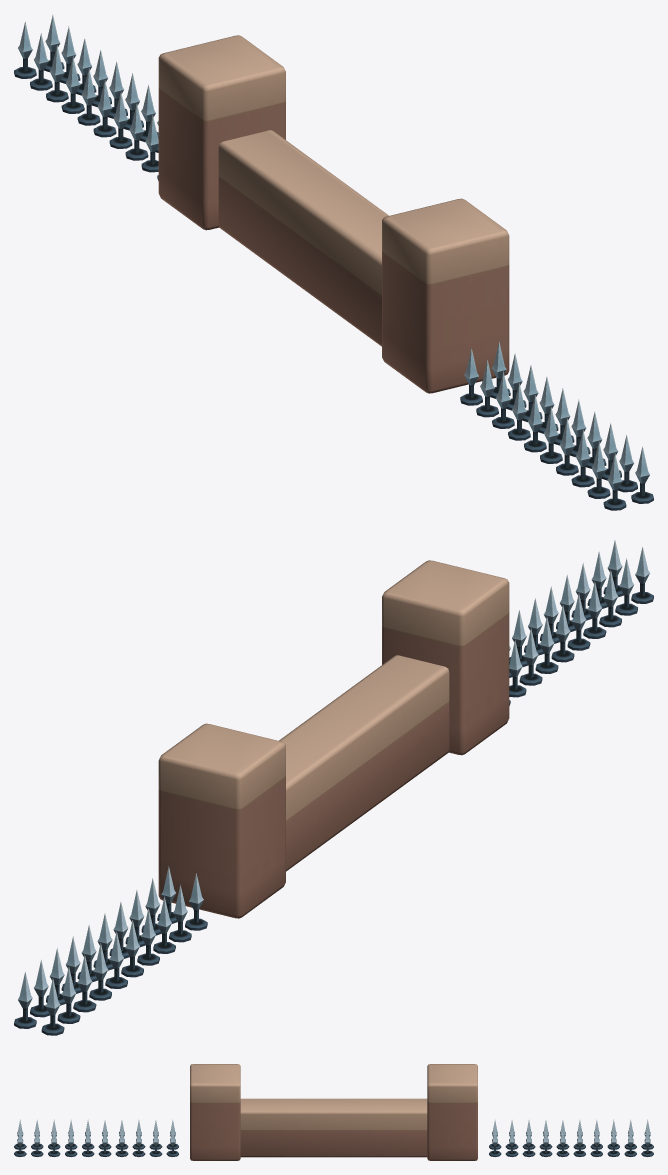
File: Props.fbx
3 renders of one model, top to bottom at view 1: azimuth 30°, elevation 25°; view 2: azimuth 150°, elevation 25°; view 3: azimuth 270°, elevation 25°, orthographic. The views are drawn at different scales.
Parts seen in each view (by area): view 1: Box03, Box20-2, Box03 (1); view 2: Box03 (1), Box20-2, Box03; view 3: Box20-2, Box03, Box03 (1).
Boxes of the visible parts, x1,y1,x2,y2 form: Box03: (382, 198, 509, 393); Box20-2: (218, 130, 388, 346); Box03 (1): (158, 35, 285, 230); Box03 (1): (158, 723, 285, 918); Box20-2: (279, 655, 449, 871); Box03: (382, 560, 509, 755); Box20-2: (240, 1098, 427, 1157); Box03: (190, 1064, 240, 1160); Box03 (1): (427, 1064, 477, 1160).
Size of the model in its own units: 3 by 5.01 by 37.74.
2 materials, 2 textured.
